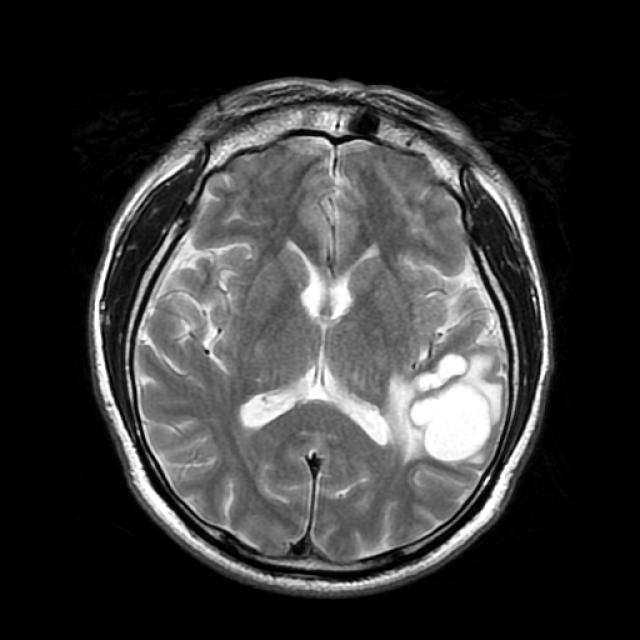Tumor-Cell: (399, 361, 492, 484)
